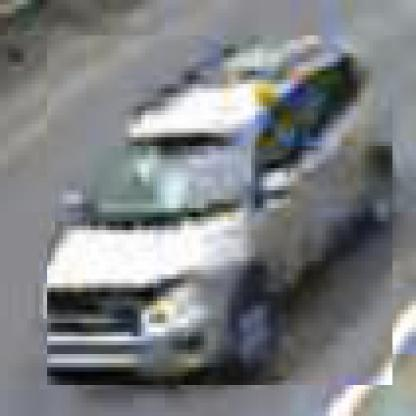car: (44, 37, 394, 391)
